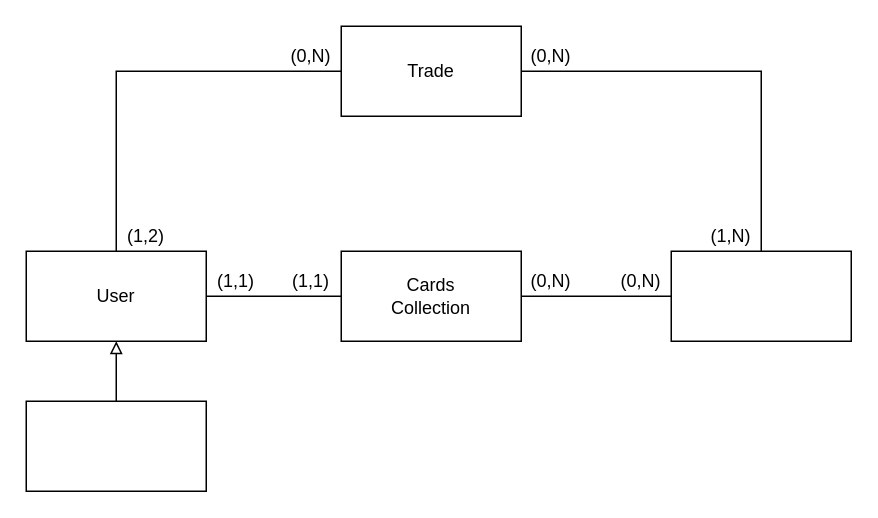
Image size: 878x518. Some labels were removed from this diagram. The shapes that lost their labels are listed below. From the top down, each one's centre as x and y in pixels, then its label:
At point (760, 295): "Player's Card".
At point (115, 445): "Admin".
